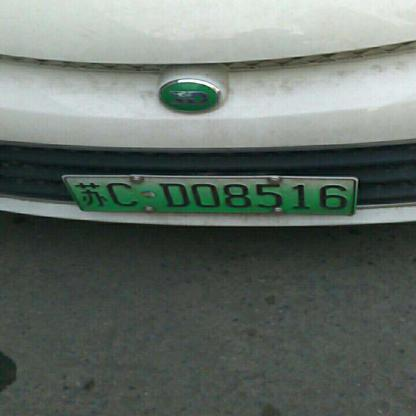lp: (63, 177, 356, 215)
